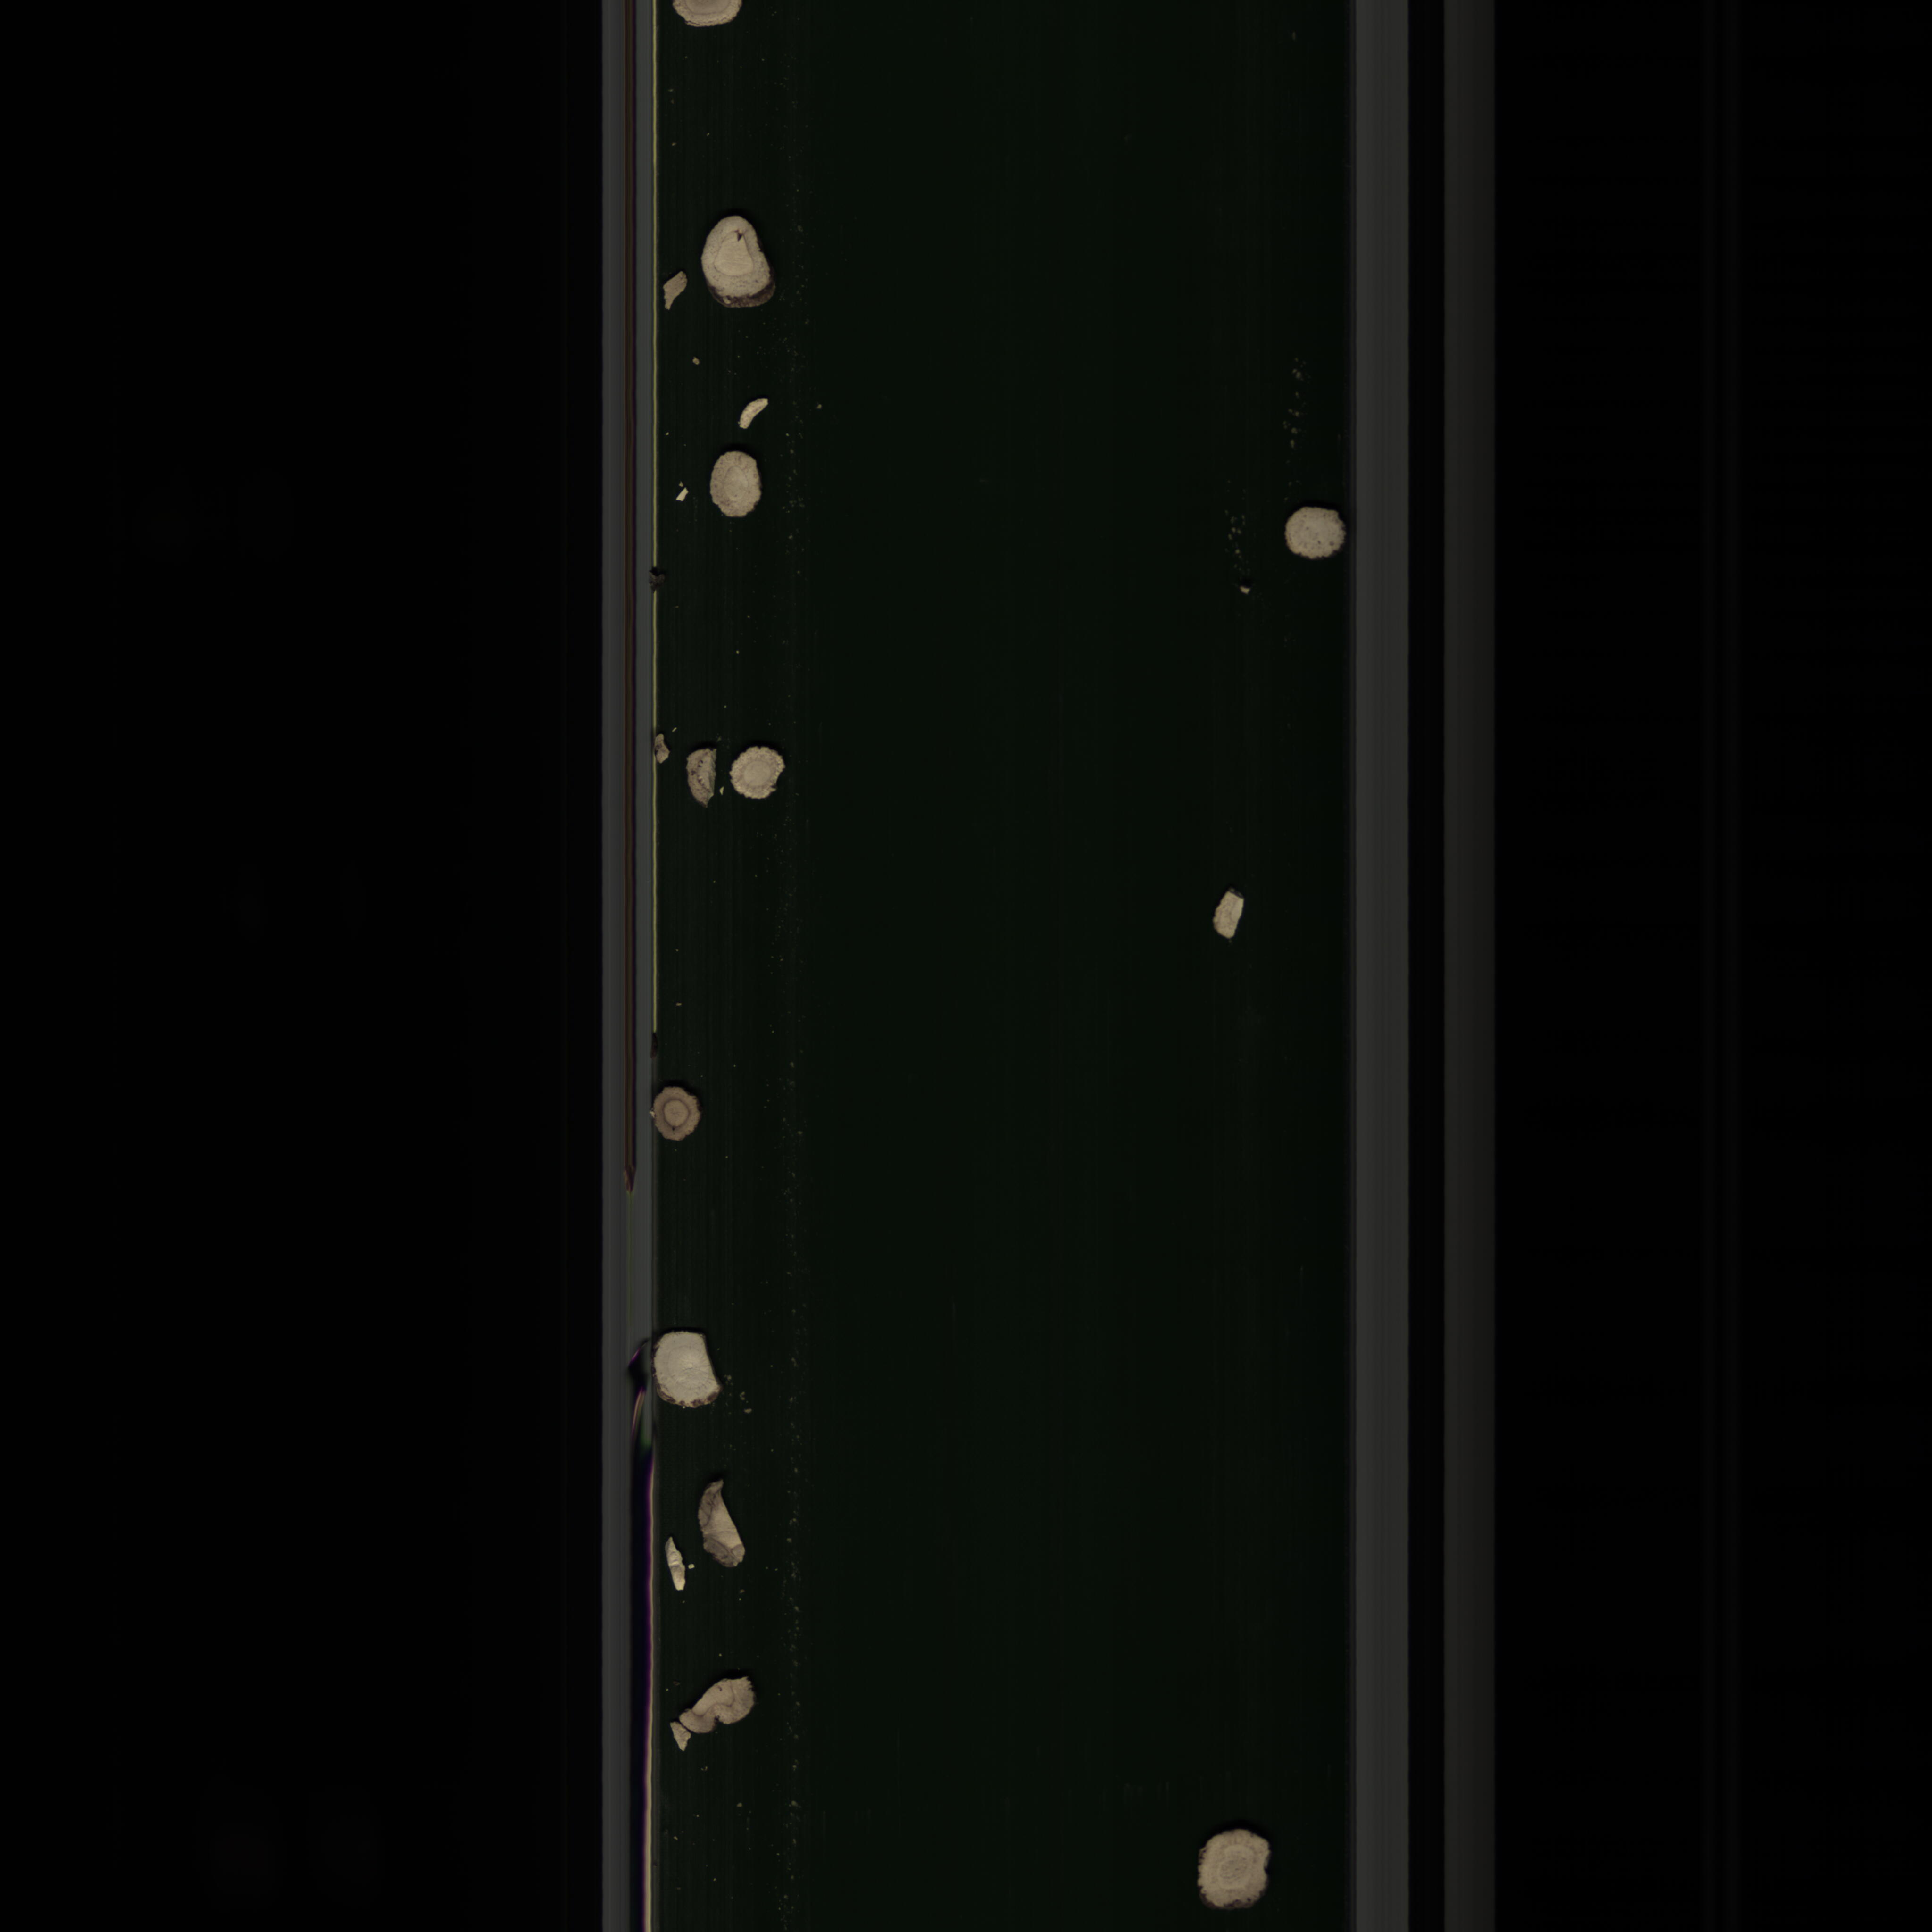debris: (663, 1672, 759, 1755), (690, 1481, 754, 1571), (656, 1336, 727, 1415), (674, 747, 729, 812), (1208, 886, 1254, 947), (732, 389, 775, 442)
moldy: (648, 1081, 704, 1146)
